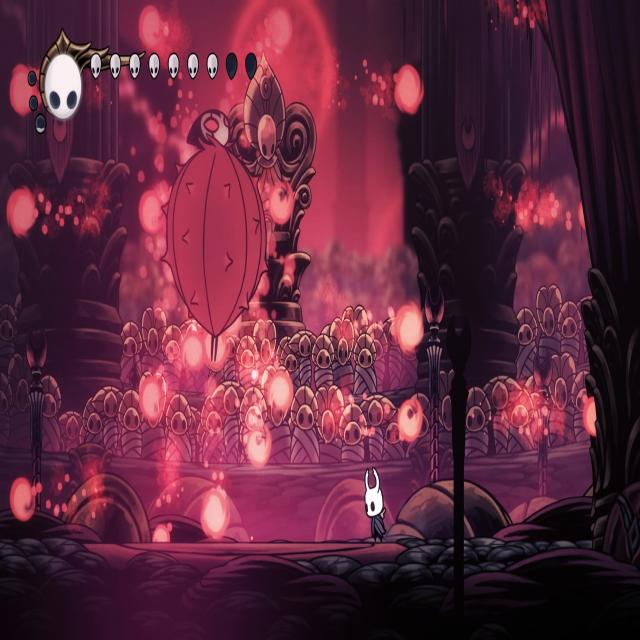Player: (360, 462, 390, 546)
Pufferfish: (158, 107, 272, 367)
Tiny Fireballs: (9, 64, 37, 116), (200, 488, 229, 538), (394, 65, 422, 116), (7, 189, 36, 238), (396, 304, 424, 352), (138, 378, 165, 424), (139, 5, 166, 51), (266, 7, 294, 51), (268, 371, 294, 413), (12, 478, 36, 523), (247, 427, 273, 468), (398, 398, 422, 442), (182, 334, 204, 374), (141, 188, 161, 232), (272, 181, 291, 224), (206, 331, 226, 365), (584, 396, 600, 438), (153, 523, 171, 545)
